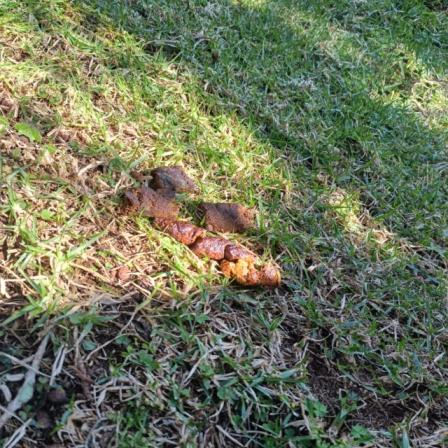dog-poop: (122, 156, 281, 295)
